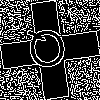Q: (25, 25, 70, 79)
